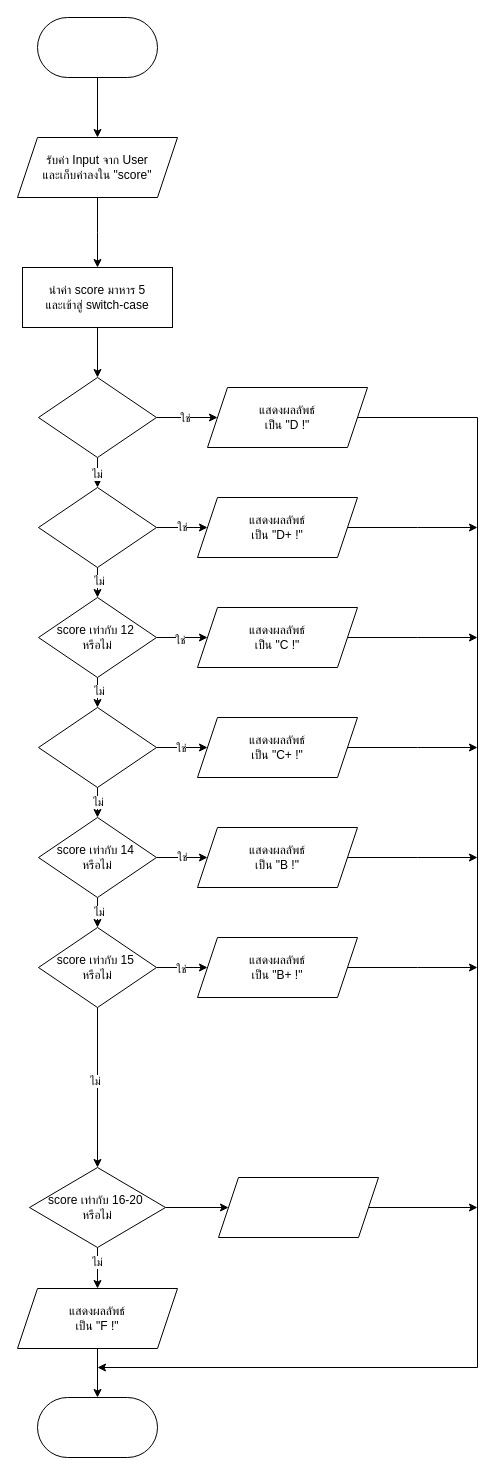
The diagram is 503 pixels wide and 1475 high, and some of its shapes have lost their labels. Here are the shapes that lost their labels. From the top down, the centre of each, then its label:
(97,47): Start
(97,417): score เท่ากับ 10 หรือไม่
(97,527): score เท่ากับ 11 หรือไม่
(97,747): score เท่ากับ 13 หรือไม่
(298,1207): แสดงผลลัพธ์ เป็น "A !"
(97,1427): End
